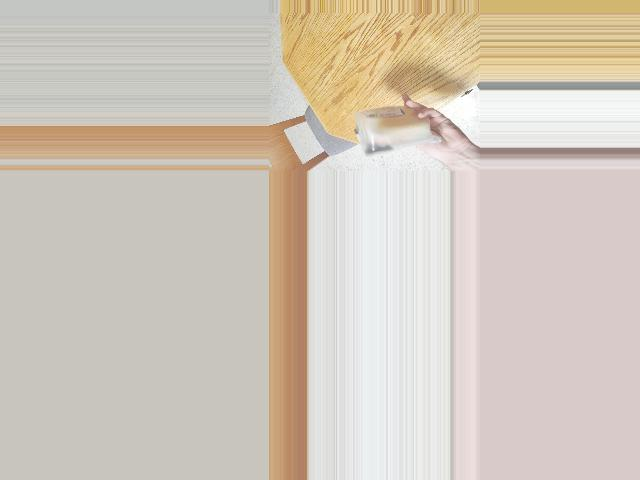cheese: (360, 107, 426, 150)
